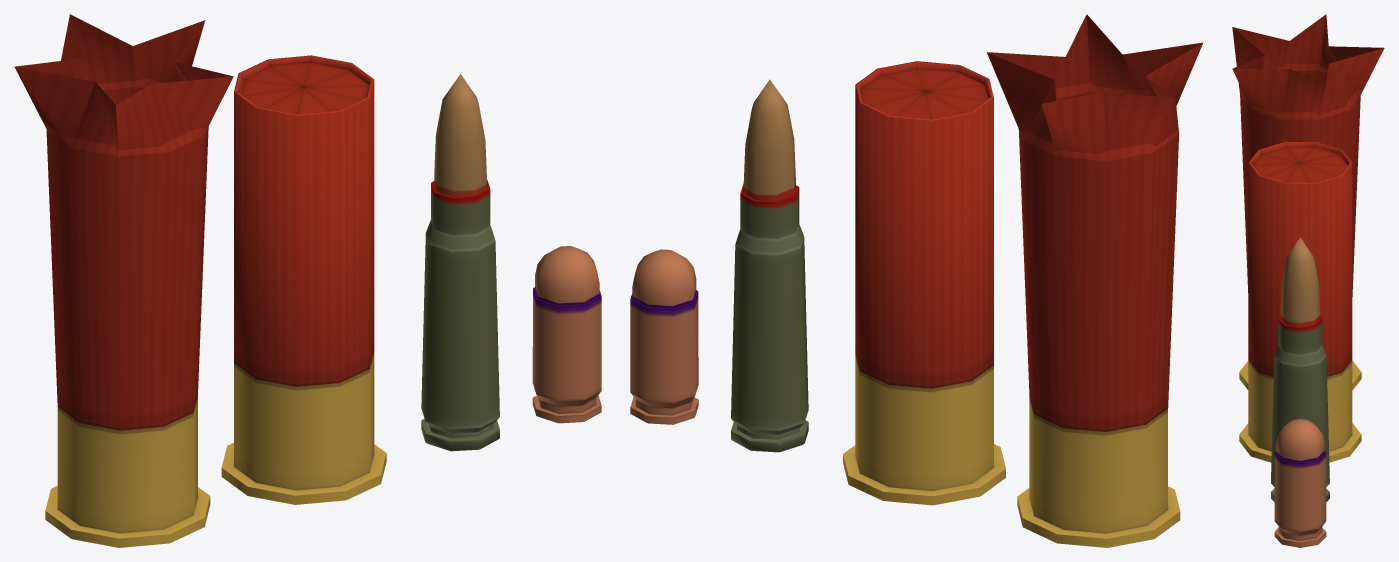
File: Cartridge_set.fbx
3 renders of one model, left to right at view 1: azimuth 30°, elevation 25°; view 2: azimuth 150°, elevation 25°; view 3: azimuth 270°, elevation 25°, orthographic. The views are drawn at different scales.
Parts seen in each view (by area): view 1: Cartridge case 12K, Cartridge 12K, Cartridge_7.62х39, Cartridge_9х18; view 2: Cartridge case 12K, Cartridge 12K, Cartridge_7.62х39, Cartridge_9х18; view 3: Cartridge 12K, Cartridge case 12K, Cartridge_7.62х39, Cartridge_9х18.
Boxes of the visible parts, x1,y1,x2,y2 form: Cartridge case 12K: (14, 14, 233, 547); Cartridge 12K: (221, 55, 386, 504); Cartridge_7.62х39: (421, 74, 499, 451); Cartridge_9х18: (532, 246, 601, 423); Cartridge case 12K: (987, 14, 1203, 547); Cartridge 12K: (843, 61, 1005, 505); Cartridge_7.62х39: (731, 79, 808, 452); Cartridge_9х18: (630, 249, 698, 424); Cartridge 12K: (1239, 141, 1361, 462); Cartridge case 12K: (1232, 14, 1384, 390); Cartridge_7.62х39: (1271, 237, 1329, 501); Cartridge_9х18: (1274, 418, 1326, 547).
Size of the model in its own units: 9.11 by 7.09 by 2.93.
Materials: 1 (1 with a texture image).
